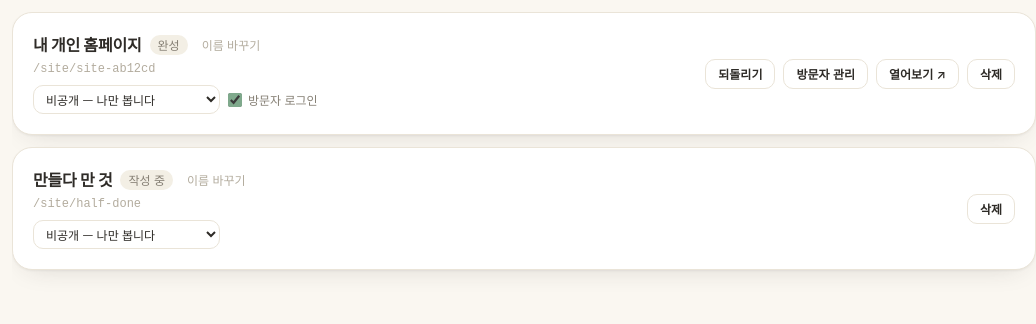
[P7-1b] 프로젝트 이름 바꾸기 › 저장이 실패하면 원래 이름으로 되돌리고 알린다
Click the button "이름 바꾸기" next to "완성".
click(231, 45)  # box x1=196 y1=35 x2=266 y2=55
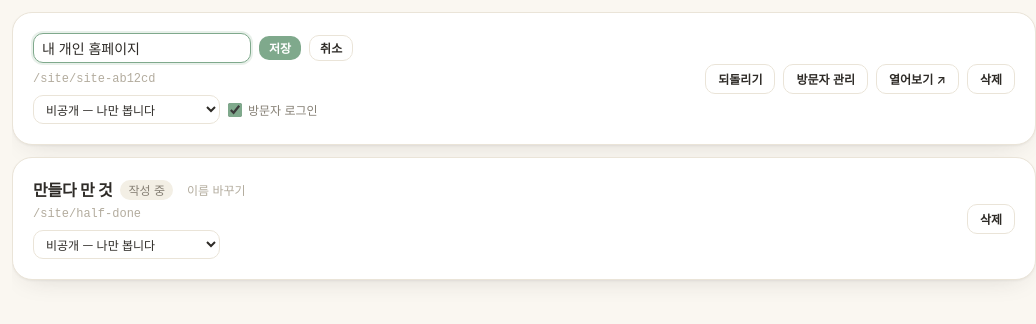
Replace the text in the field named "프로젝트 이름" with "바뀔 뻔한 이름" at (142, 48), box x1=33 y1=33 x2=251 y2=63
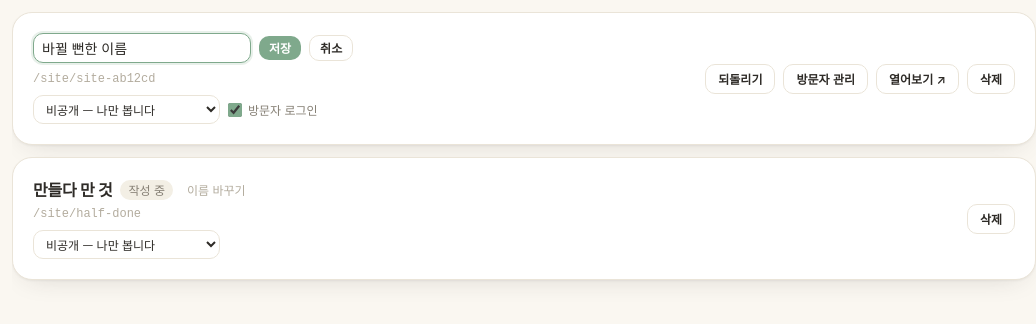
Click the button "저장".
click(280, 48)  # box x1=259 y1=36 x2=301 y2=60
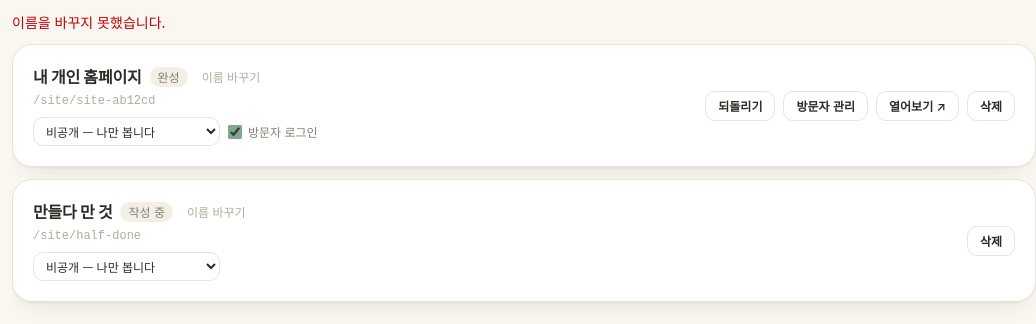
Now the message shows "이름을 바꾸지 못했습니다", box x1=12 y1=12 x2=165 y2=32
Now the heading "내 개인 홈페이지" is shown, box x1=33 y1=65 x2=142 y2=89
